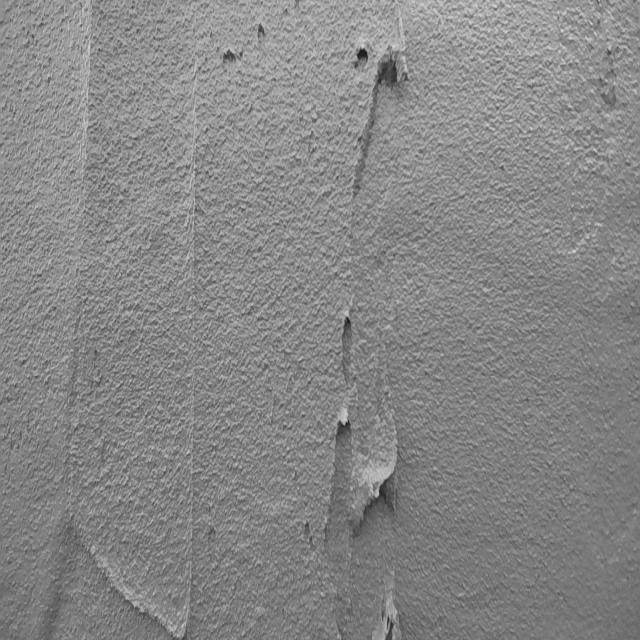trowels marks: (177, 63, 214, 628), (68, 8, 109, 215)
